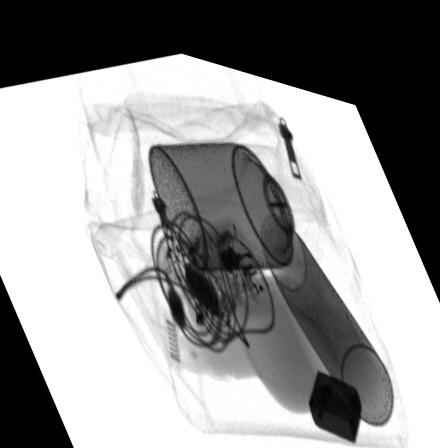Lighter: (307, 351, 362, 423)
Sprayer: (148, 128, 322, 256)
